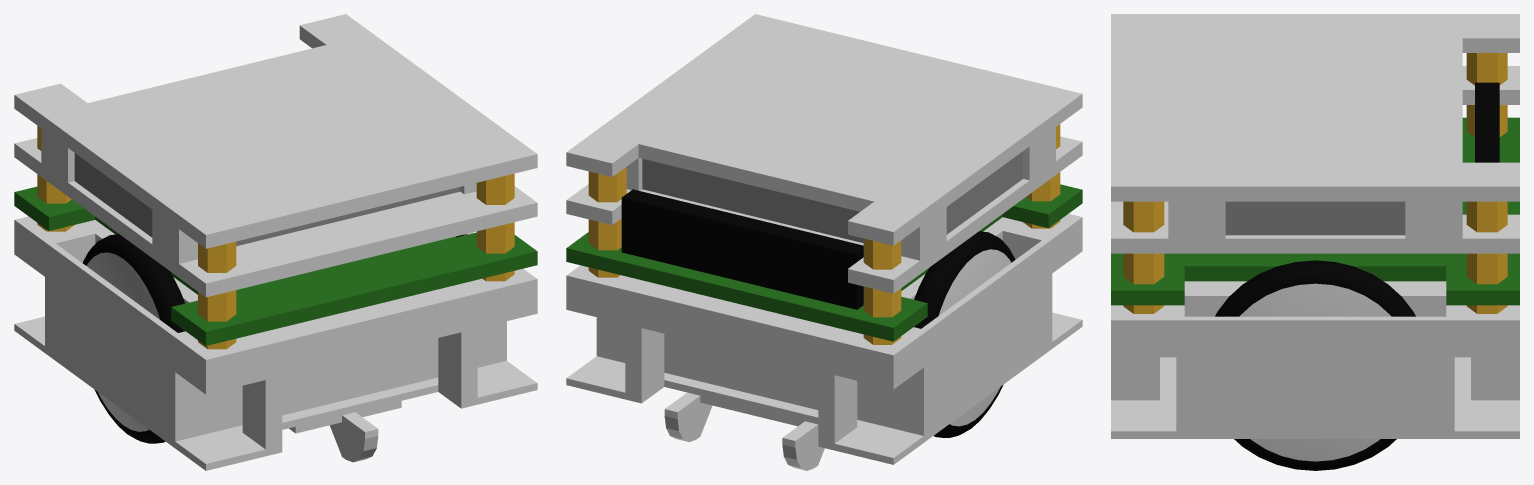
The model's file is MiniCubeRobot.fbx.
3 views of the same model, side by side, from view 1: azimuth 30°, elevation 25°; view 2: azimuth 150°, elevation 25°; view 3: azimuth 270°, elevation 25° (orthographic). The views are drawn at different scales.
Visible parts, largest first — view 1: Battery, Base, Motor Drive PCB, Wheel Left.001, Skid Single, Circle.005, Circle.009, Circle.006, Circle.010, Circle.007; view 2: Battery, Base, Motor Drive PCB, Wheel Left.001, Skid Double, Circle.012, Circle.007, Circle.011, Circle.008, Circle.005; view 3: Battery, Base, Motor Drive PCB, Wheel Left, Circle.011, Circle.010, Circle.012, Circle.006, Circle.008, Circle.007.
Part boxes in pixels (left/top/right/bottom): Battery: left=14, top=14, right=537, bottom=297; Base: left=14, top=216, right=537, bottom=470; Motor Drive PCB: left=14, top=186, right=537, bottom=345; Wheel Left.001: left=82, top=234, right=185, bottom=443; Skid Single: left=289, top=401, right=401, bottom=462; Circle.005: left=198, top=290, right=236, bottom=321; Circle.009: left=198, top=241, right=236, bottom=272; Circle.006: left=476, top=222, right=514, bottom=253; Circle.010: left=476, top=173, right=514, bottom=204; Circle.007: left=37, top=174, right=71, bottom=203; Battery: left=566, top=14, right=1082, bottom=293; Base: left=566, top=213, right=1082, bottom=464; Motor Drive PCB: left=566, top=184, right=1082, bottom=341; Wheel Left.001: left=914, top=231, right=1015, bottom=437; Skid Double: left=664, top=392, right=824, bottom=470; Circle.012: left=588, top=167, right=626, bottom=202; Circle.007: left=863, top=286, right=901, bottom=317; Circle.011: left=863, top=238, right=901, bottom=269; Circle.008: left=588, top=218, right=621, bottom=250; Circle.005: left=1026, top=172, right=1060, bottom=201; Battery: left=1111, top=14, right=1519, bottom=253; Base: left=1111, top=281, right=1519, bottom=438; Motor Drive PCB: left=1111, top=82, right=1519, bottom=305; Wheel Left: left=1215, top=260, right=1415, bottom=470; Circle.011: left=1466, top=53, right=1507, bottom=85; Circle.010: left=1123, top=201, right=1164, bottom=232; Circle.012: left=1466, top=201, right=1507, bottom=232; Circle.006: left=1123, top=253, right=1164, bottom=284; Circle.008: left=1466, top=253, right=1507, bottom=284; Circle.007: left=1466, top=105, right=1507, bottom=137.
Size of what is drawn, in the model's own units: 5 by 4 by 5.
